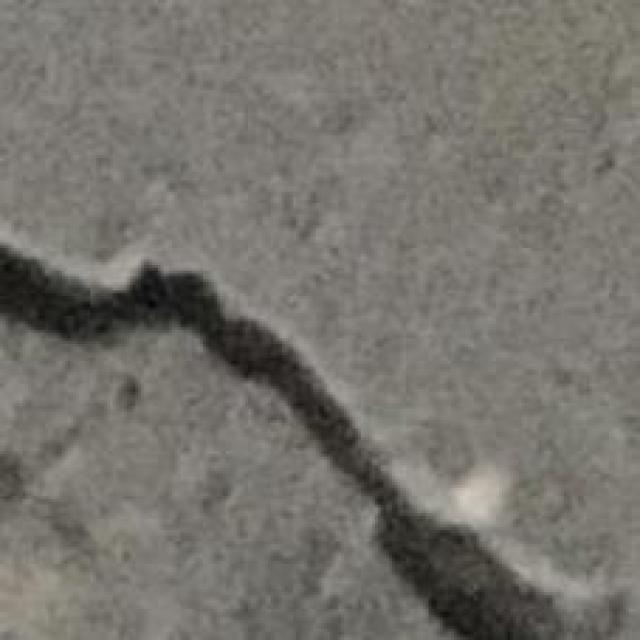Crack: (0, 242, 555, 639)
